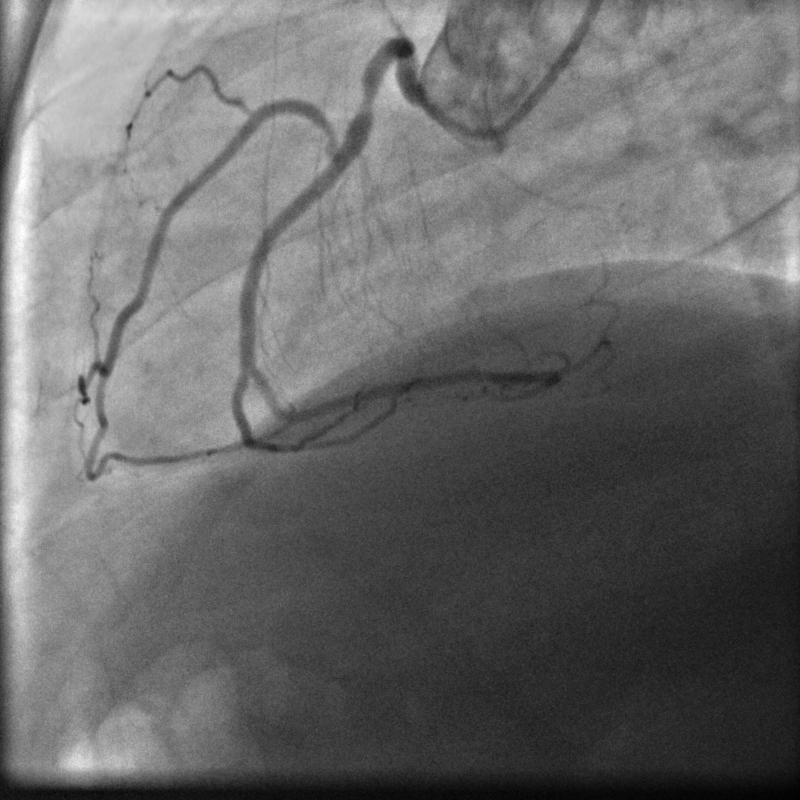Stenosis: (353, 76, 385, 119)
